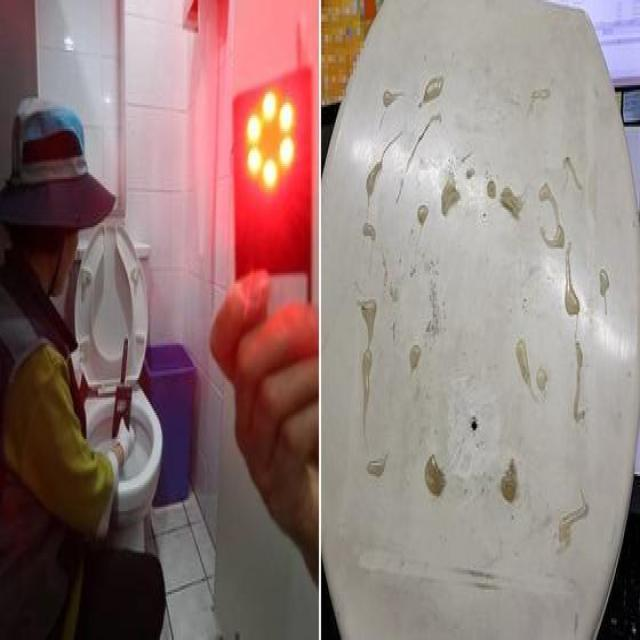hidden camera: (466, 401, 483, 450)
